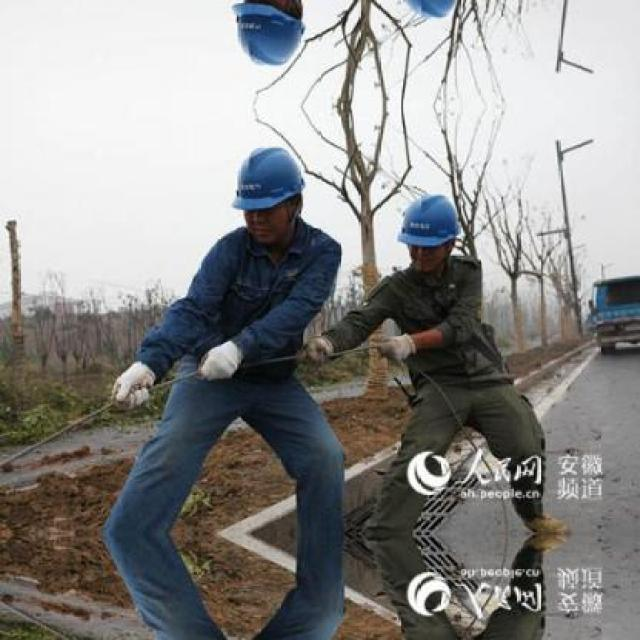helmet: (228, 136, 314, 248), (228, 0, 315, 77), (394, 186, 468, 274), (394, 0, 469, 26)
